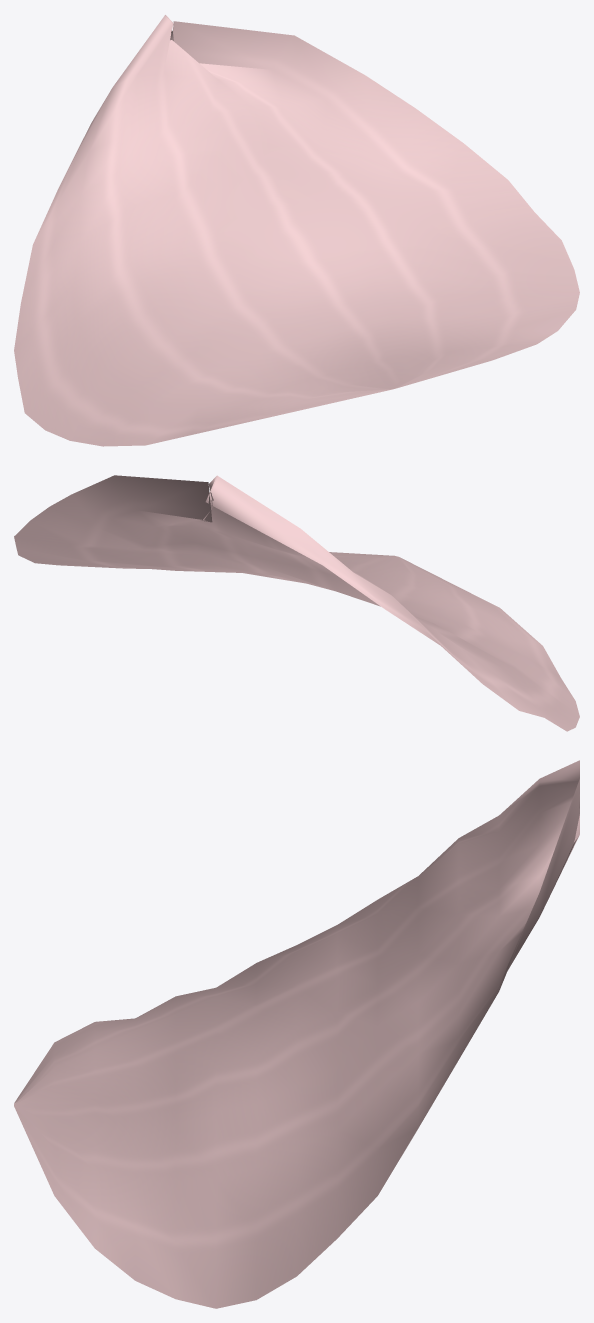
File: petal_03_small.glb
The picture shows the model from 3 angles, top to bottom: view 1: azimuth 30°, elevation 25°; view 2: azimuth 150°, elevation 25°; view 3: azimuth 270°, elevation 25°; orthographic projection. The views are drawn at different scales.
Visible parts, largest first — view 1: petal_03_small; view 2: petal_03_small; view 3: petal_03_small.
Boxes of the visible parts, x1=… form: petal_03_small: x1=14, y1=15, x2=579, y2=446; petal_03_small: x1=14, y1=475, x2=579, y2=731; petal_03_small: x1=14, y1=760, x2=579, y2=1308.
Size of the model in its own units: 0.0748 by 0.0368 by 0.0487.
1 material, 1 textured.
